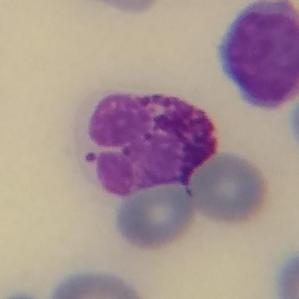Basophil: (73, 81, 232, 204)
Lymphocyte: (209, 0, 299, 116)
RBC: (110, 173, 200, 252), (184, 149, 274, 227), (45, 265, 148, 299), (271, 246, 299, 299), (286, 84, 299, 160), (96, 0, 161, 14)
